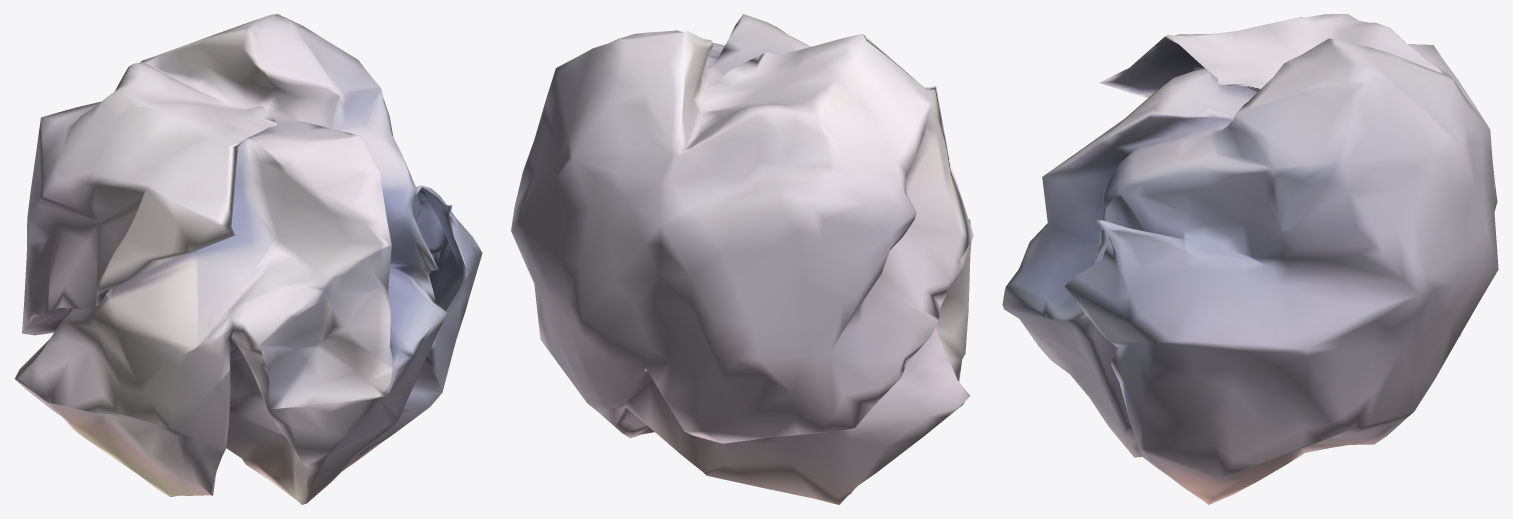
File: crumpled paper ball 3d model.glb
The picture shows the model from 3 angles, left to right: view 1: azimuth 30°, elevation 25°; view 2: azimuth 150°, elevation 25°; view 3: azimuth 270°, elevation 25°; orthographic projection. The views are drawn at different scales.
Visible parts, largest first — view 1: tripo_node_3e2d7c22-82b8-4d02-a25a-f8c123a685a2; view 2: tripo_node_3e2d7c22-82b8-4d02-a25a-f8c123a685a2; view 3: tripo_node_3e2d7c22-82b8-4d02-a25a-f8c123a685a2.
Boxes of the visible parts, x1=… form: tripo_node_3e2d7c22-82b8-4d02-a25a-f8c123a685a2: x1=14, y1=14, x2=482, y2=504; tripo_node_3e2d7c22-82b8-4d02-a25a-f8c123a685a2: x1=511, y1=14, x2=973, y2=504; tripo_node_3e2d7c22-82b8-4d02-a25a-f8c123a685a2: x1=1002, y1=14, x2=1498, y2=504.
Bounding box in the file's own units: 0.9813 × 0.9761 × 0.9585.
Materials: 1 (1 with a texture image).
